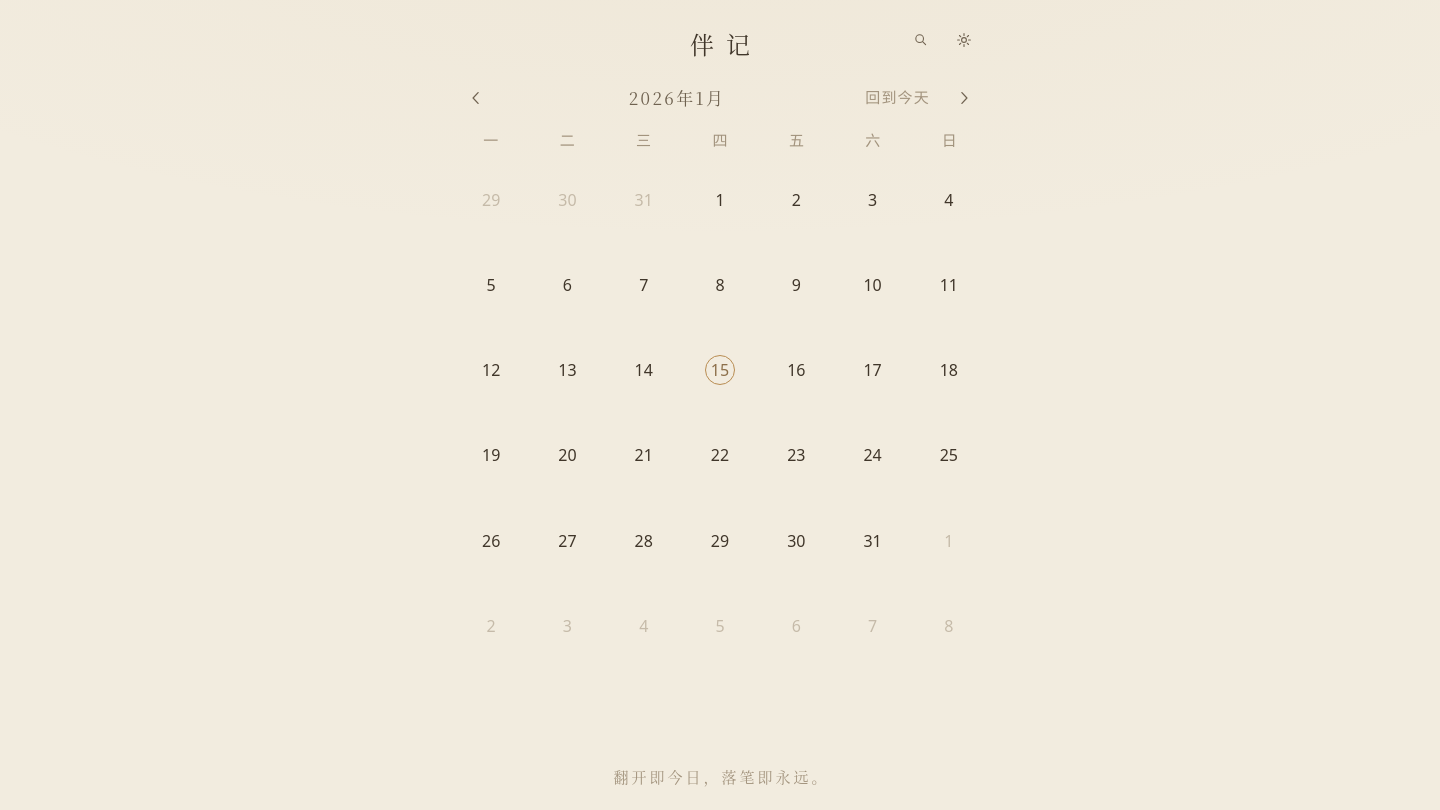
Test case: 结果：分组、高亮、行点 › 无结果说「没有哪页纸写过这个。」
This screenshot has width=1440, height=810.
Click the button named "搜索手札" at coordinates (920, 40), box [898,18,942,62]
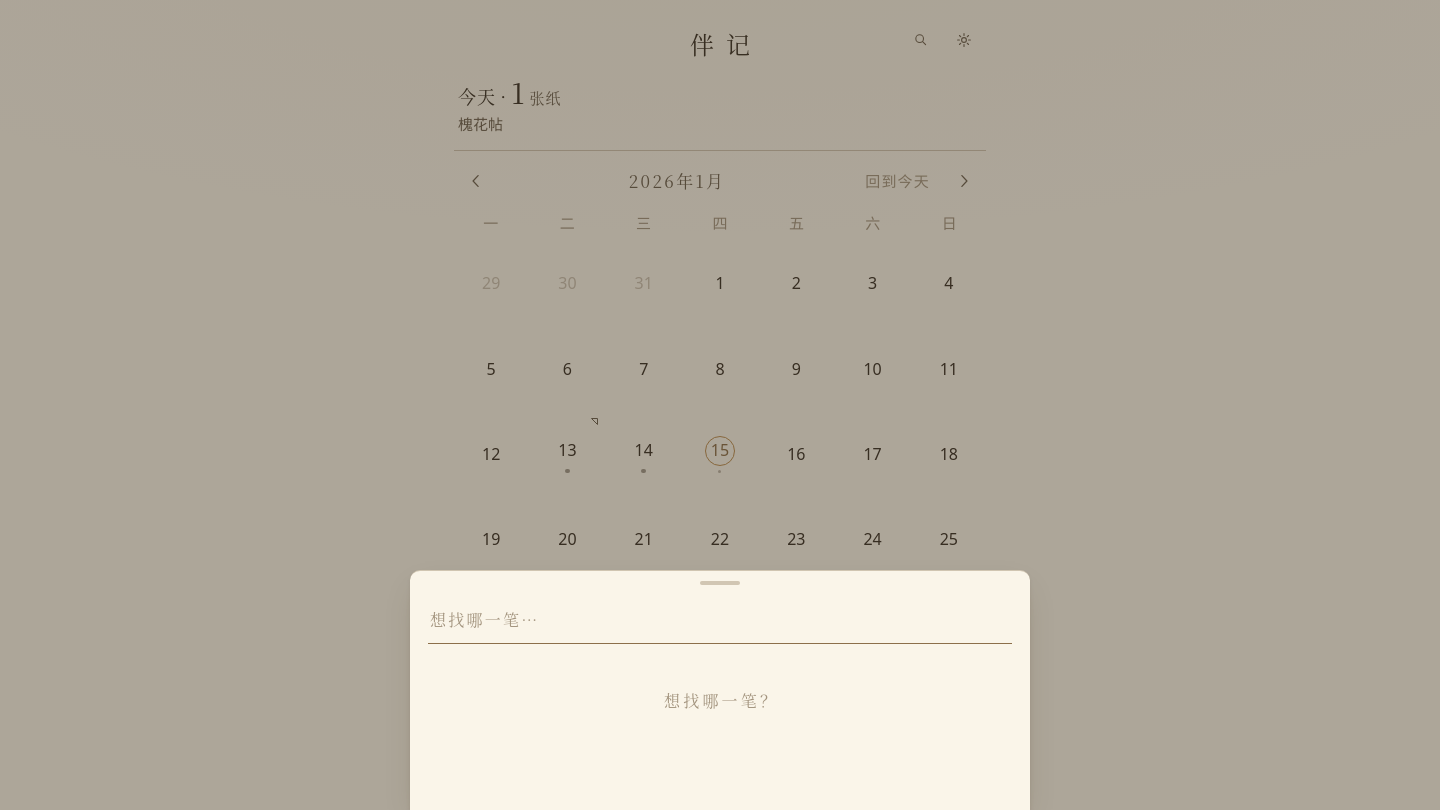
Type "绝不存在的字句" into the field named "搜索笔记" at coordinates (720, 620), box [428,597,1012,644]
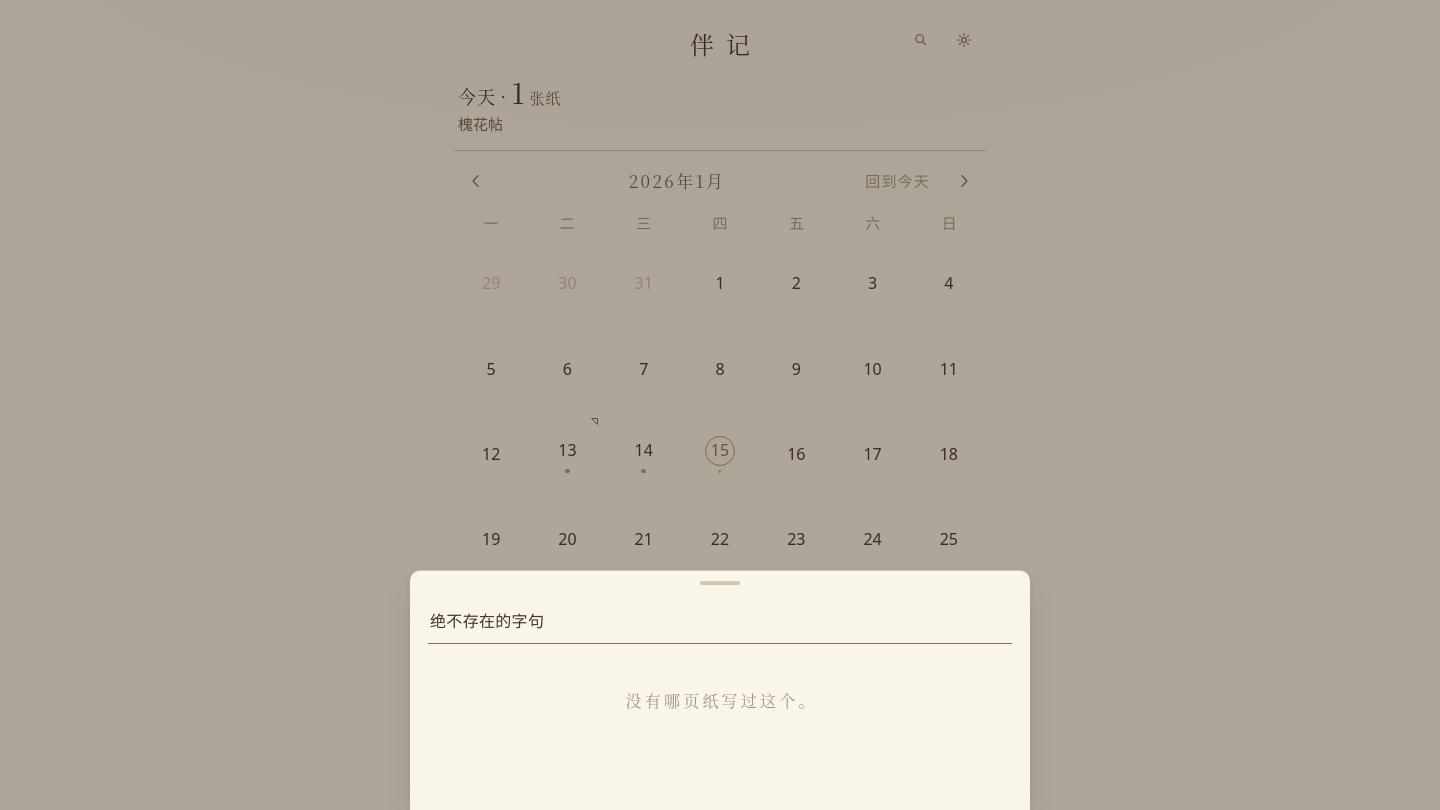
Expected: the text "没有哪页纸写过这个。" is shown, [626,689,818,712]
